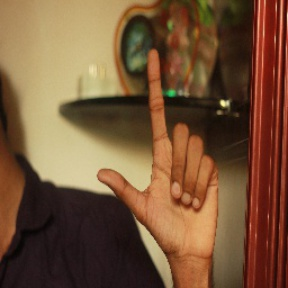L: (96, 45, 223, 255)
